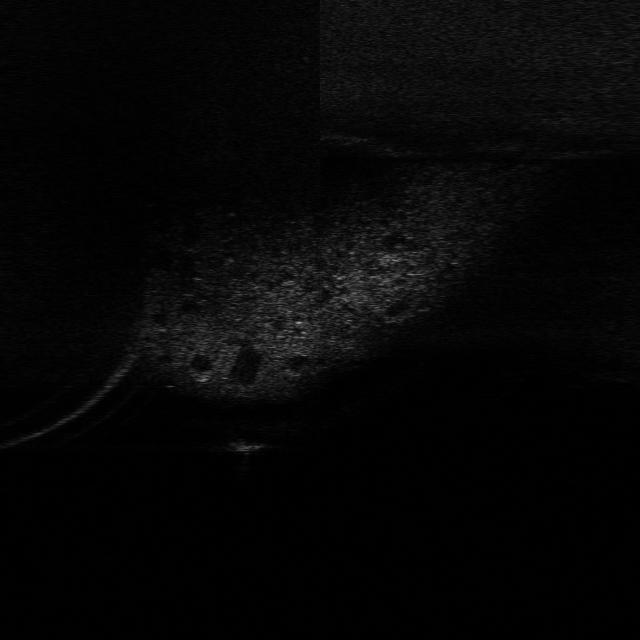cube: (227, 430, 267, 454)
